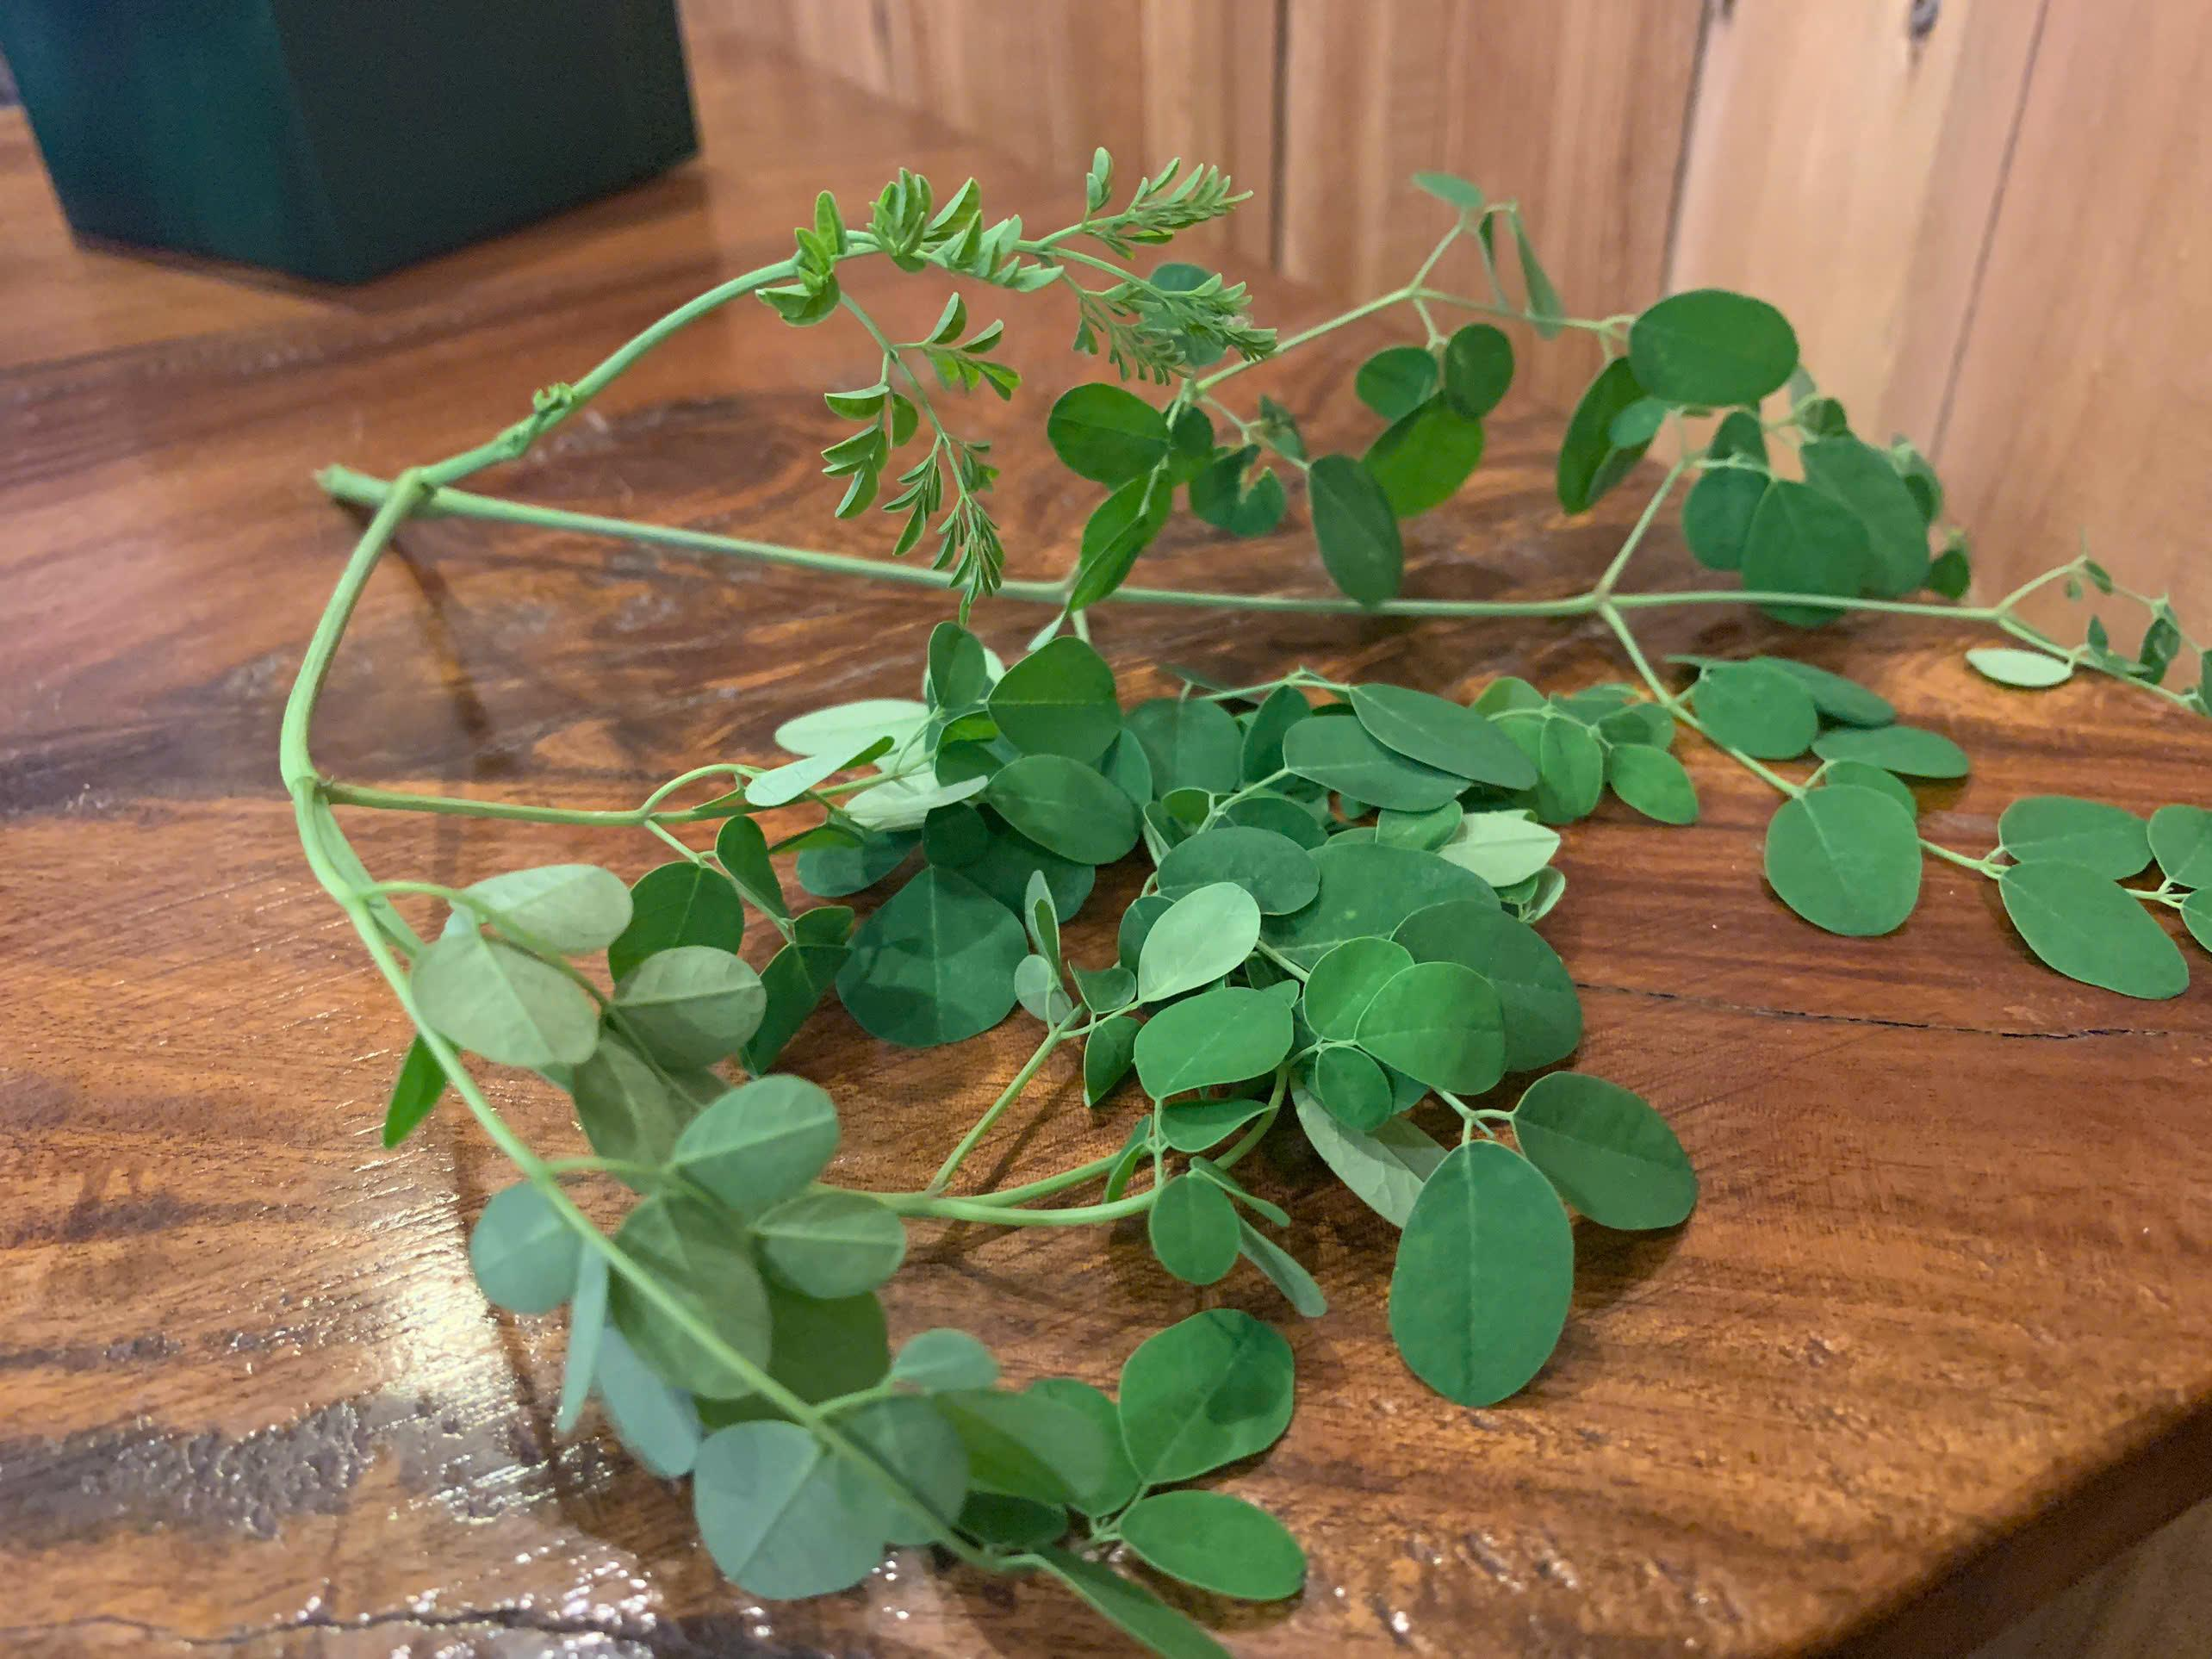Huu co: (282, 176, 2116, 1605)
